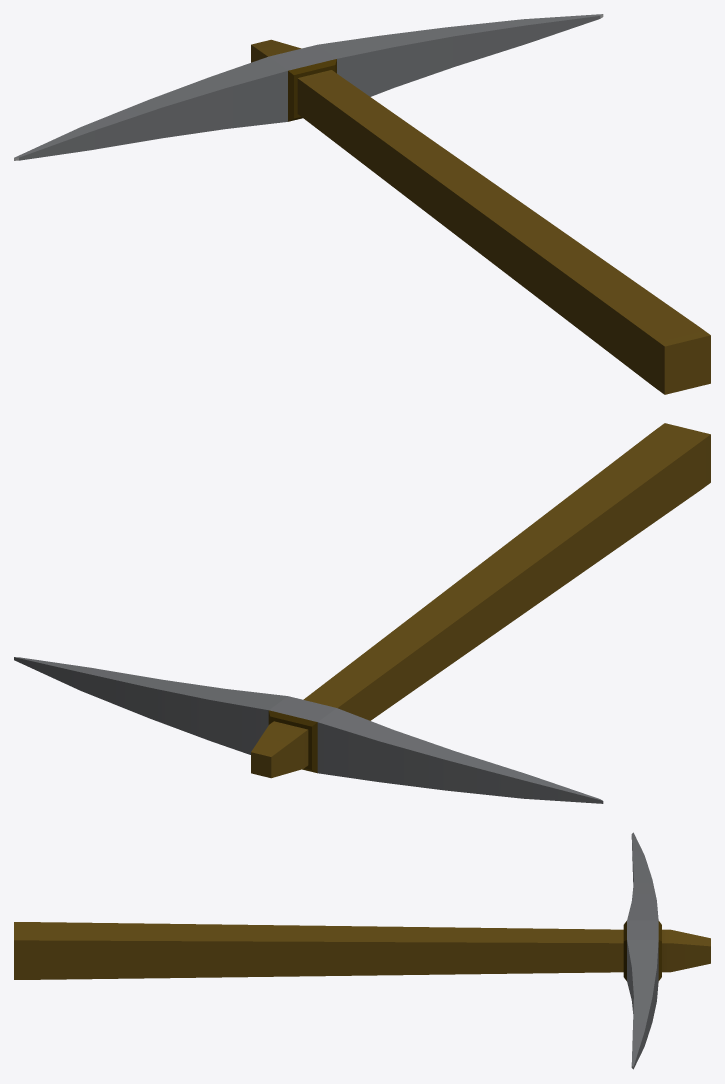
File: wep_pickaxe.fbx
3 renders of one model, top to bottom at view 1: azimuth 30°, elevation 25°; view 2: azimuth 150°, elevation 25°; view 3: azimuth 270°, elevation 25°, orthographic. The views are drawn at different scales.
Parts seen in each view (by area): view 1: pickaxe; view 2: pickaxe; view 3: pickaxe.
Boxes of the visible parts, x1,y1,x2,y2 form: pickaxe: (14, 14, 710, 394); pickaxe: (14, 423, 710, 803); pickaxe: (14, 832, 710, 1069).
Bounding box in the file's own units: 17.21 × 1.43 × 21.6.
